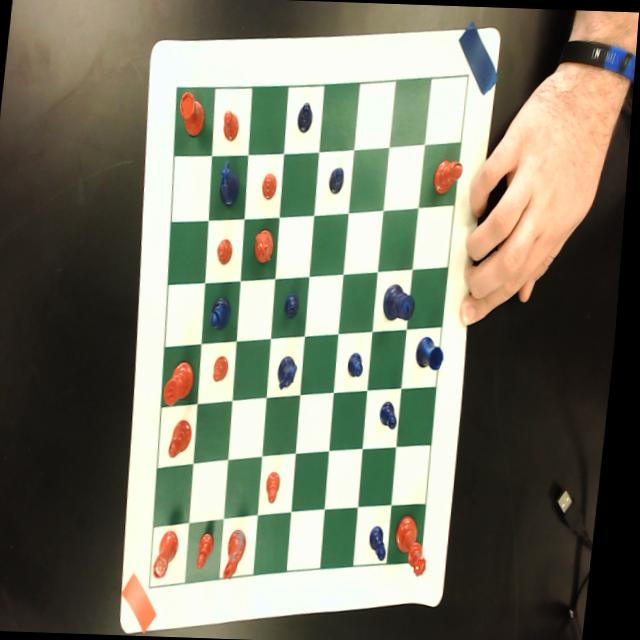B: (213, 294, 235, 330)
K: (384, 281, 420, 321)
N: (217, 156, 244, 206), (280, 352, 303, 389)
P: (374, 524, 396, 560), (383, 400, 404, 430), (297, 100, 315, 133), (329, 164, 347, 195), (351, 351, 369, 377), (287, 290, 303, 318)
R: (419, 334, 450, 369)
b: (434, 154, 465, 195), (173, 418, 199, 458)
k: (167, 358, 201, 406)
n: (228, 526, 256, 582), (254, 226, 278, 265)
p: (203, 528, 222, 569), (269, 468, 288, 504), (222, 108, 241, 141), (216, 352, 235, 383), (262, 171, 280, 200), (218, 237, 236, 266)
q: (398, 514, 439, 576)
r: (176, 88, 209, 138), (159, 528, 188, 580)
